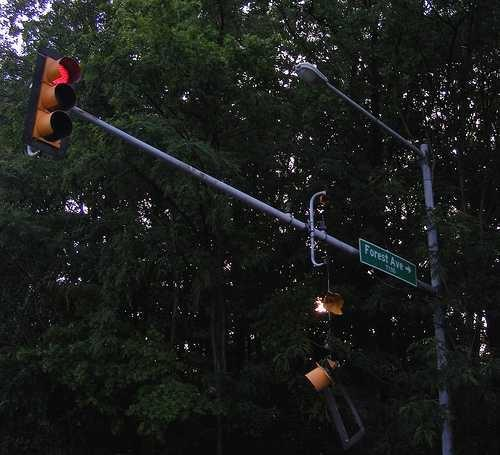red: (29, 48, 83, 157), (29, 48, 84, 86)
